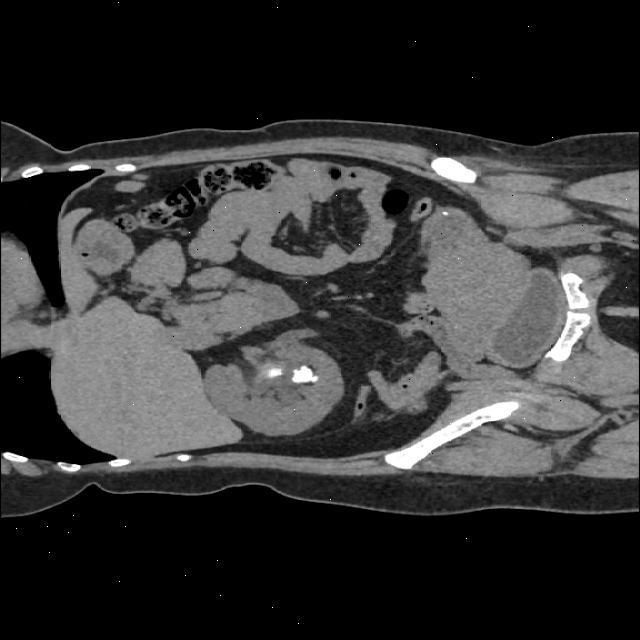kidneystone: (292, 365, 316, 381), (268, 366, 281, 376)
